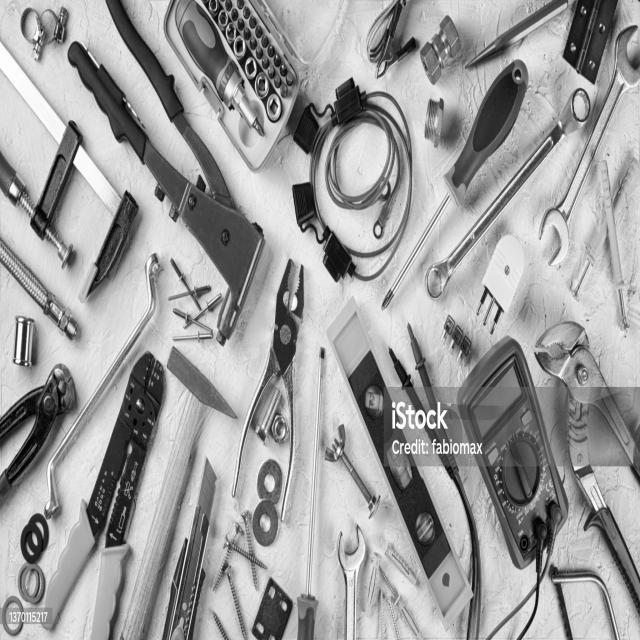c_clamp: (0, 19, 152, 313)
hammer: (118, 337, 239, 639)
level: (323, 286, 476, 628)
multimeter: (385, 319, 574, 637)
pliers: (30, 342, 172, 639), (232, 259, 315, 522), (0, 361, 78, 510)
screwdriver: (381, 47, 536, 322), (172, 0, 272, 150), (296, 342, 330, 639)
screws: (208, 504, 274, 639), (365, 535, 429, 639)
utility_knife: (158, 448, 222, 639)
washer: (251, 452, 285, 547)
wrench: (417, 69, 597, 307), (525, 307, 640, 617), (42, 237, 165, 524), (530, 25, 640, 274), (334, 508, 368, 639)
